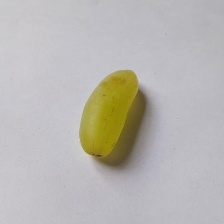grapes: (47, 40, 222, 216)
